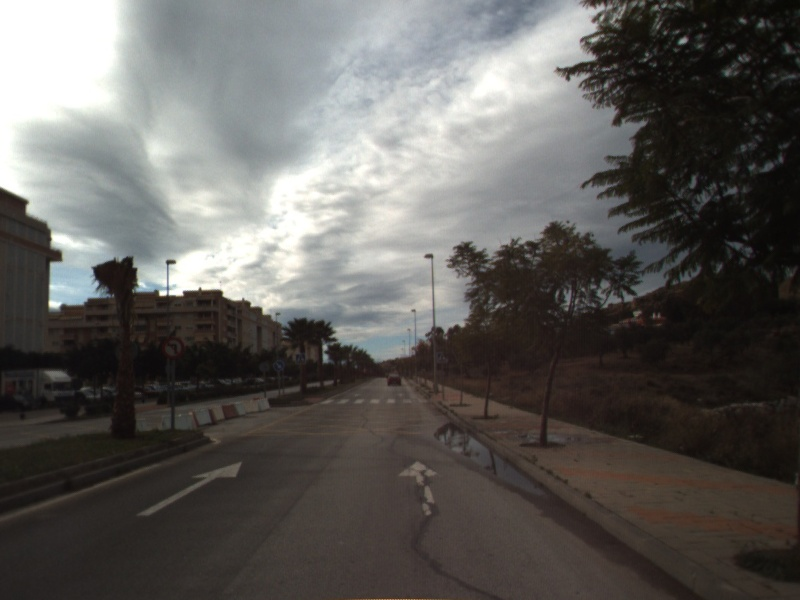STRAIGHT: (134, 459, 244, 518), (396, 458, 446, 518)
